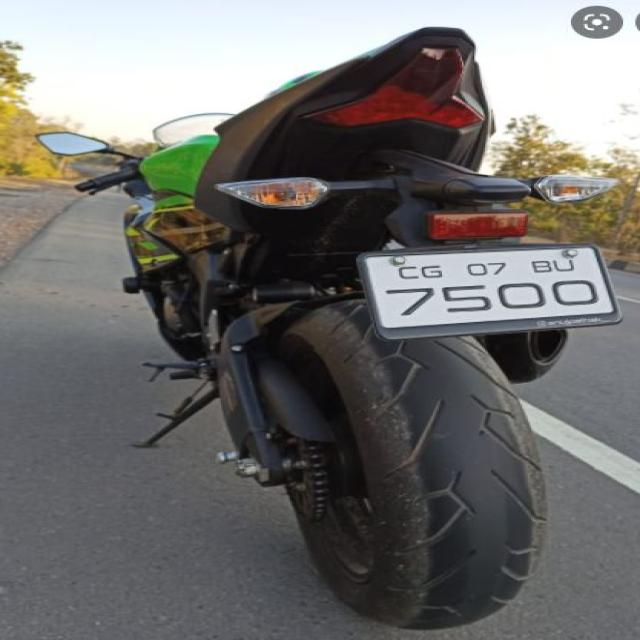license_plate: (355, 241, 623, 339)
